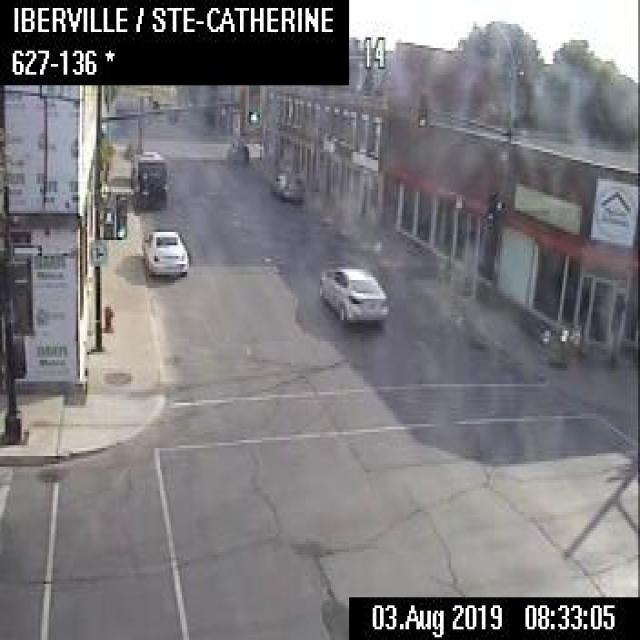vehicle: (318, 264, 387, 328), (142, 226, 188, 276), (130, 148, 166, 206), (273, 166, 307, 206), (224, 138, 248, 165)
